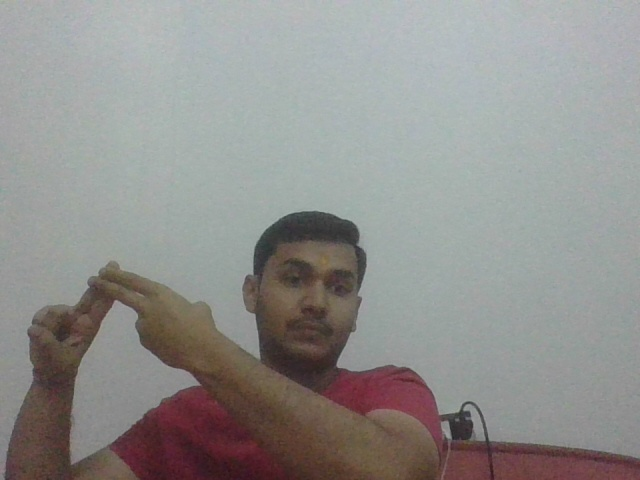F: (14, 259, 213, 379)
